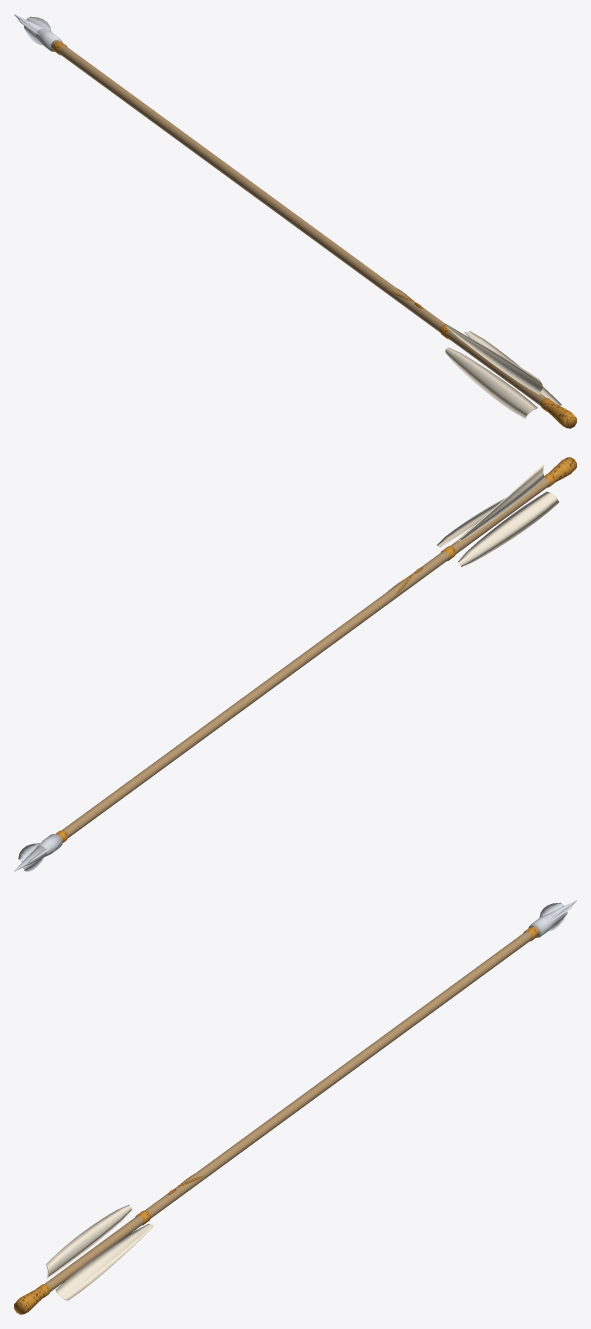
File: arrow.glb
3 renders of one model, top to bottom at view 1: azimuth 30°, elevation 25°; view 2: azimuth 150°, elevation 25°; view 3: azimuth 330°, elevation 25°, orthographic.
Parts seen in each view (by area): view 1: Shaft, Fletching, Head; view 2: Shaft, Fletching, Head; view 3: Shaft, Fletching, Head.
Boxes of the visible parts, x1,y1,x2,y2 form: Shaft: (51,40,546,405); Fletching: (444,323,561,418); Head: (14,14,62,51); Shaft: (57,478,549,839); Fletching: (436,463,559,567); Head: (14,834,62,871); Shaft: (44,926,539,1291); Fletching: (46,1205,153,1300); Head: (528,900,576,937).
Size of the model in its own units: 0.0319 by 0.0323 by 0.78.
Materials: 4 (1 with a texture image).
